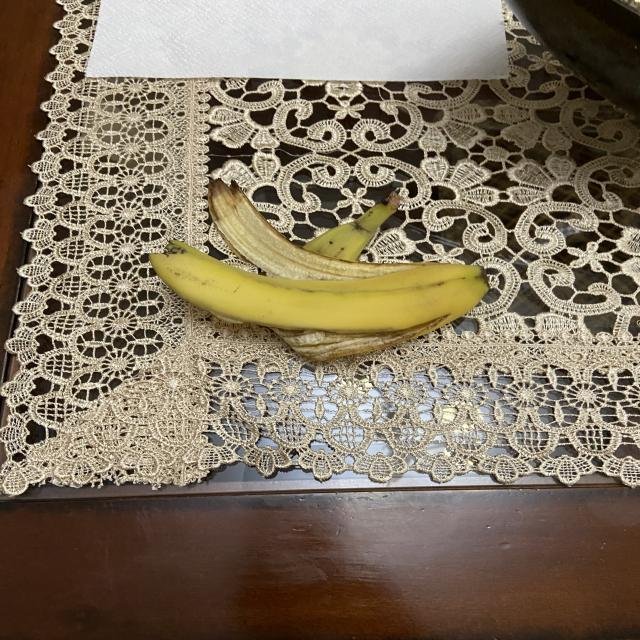banana-peel: (148, 176, 490, 361)
